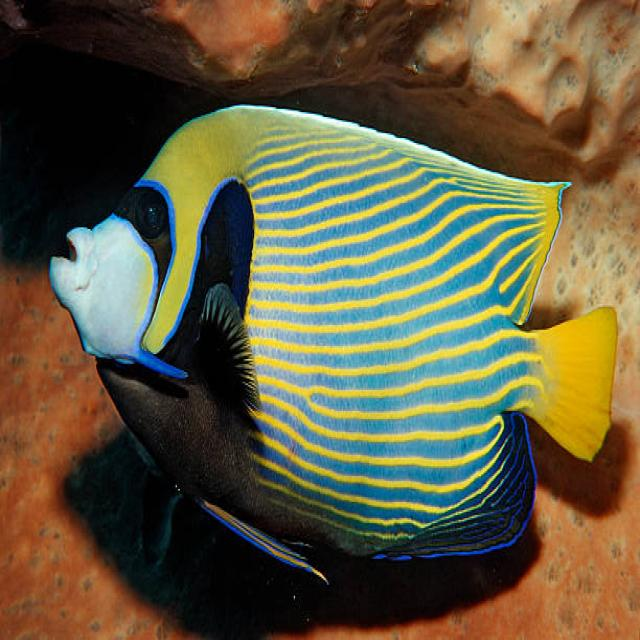AngelFish: (49, 103, 619, 578)
